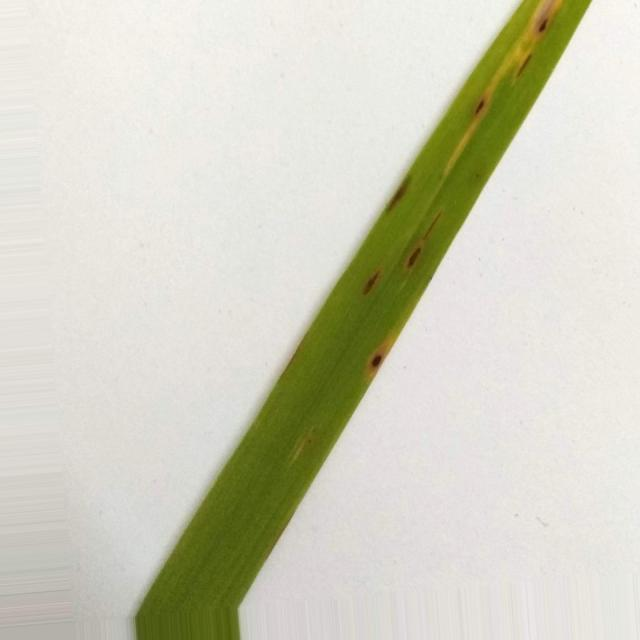Brown_Spot: (390, 180, 409, 208), (405, 246, 421, 271), (516, 52, 531, 77), (364, 271, 379, 294), (535, 14, 549, 32), (429, 211, 441, 232), (371, 354, 384, 368), (475, 99, 485, 114)
